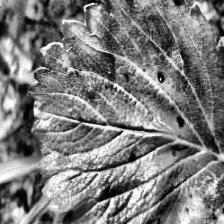Leaf Spot: (26, 0, 224, 224)
